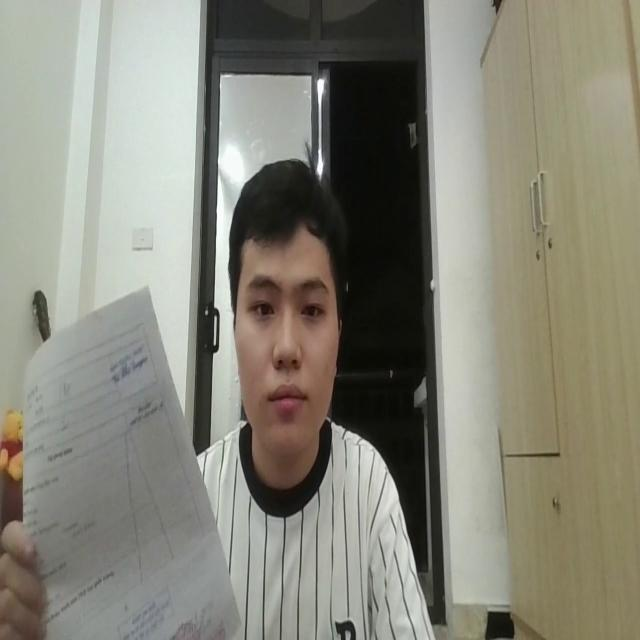book: (18, 284, 242, 640)
student: (192, 152, 432, 640)
